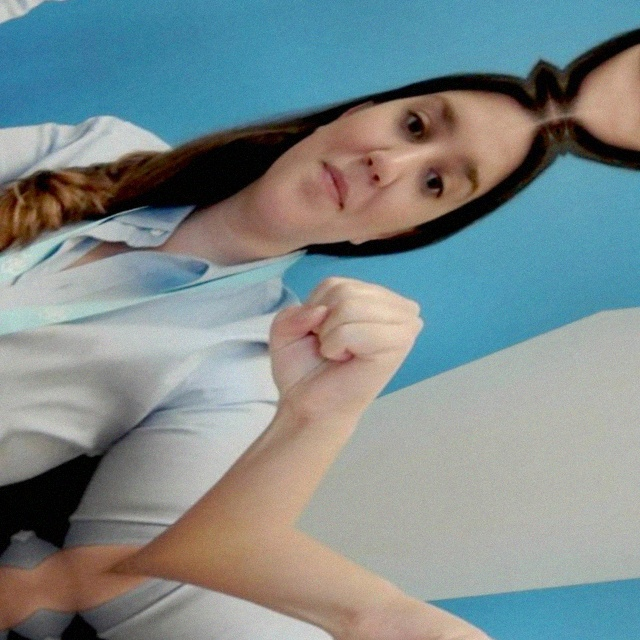Rock: (223, 245, 454, 444)
